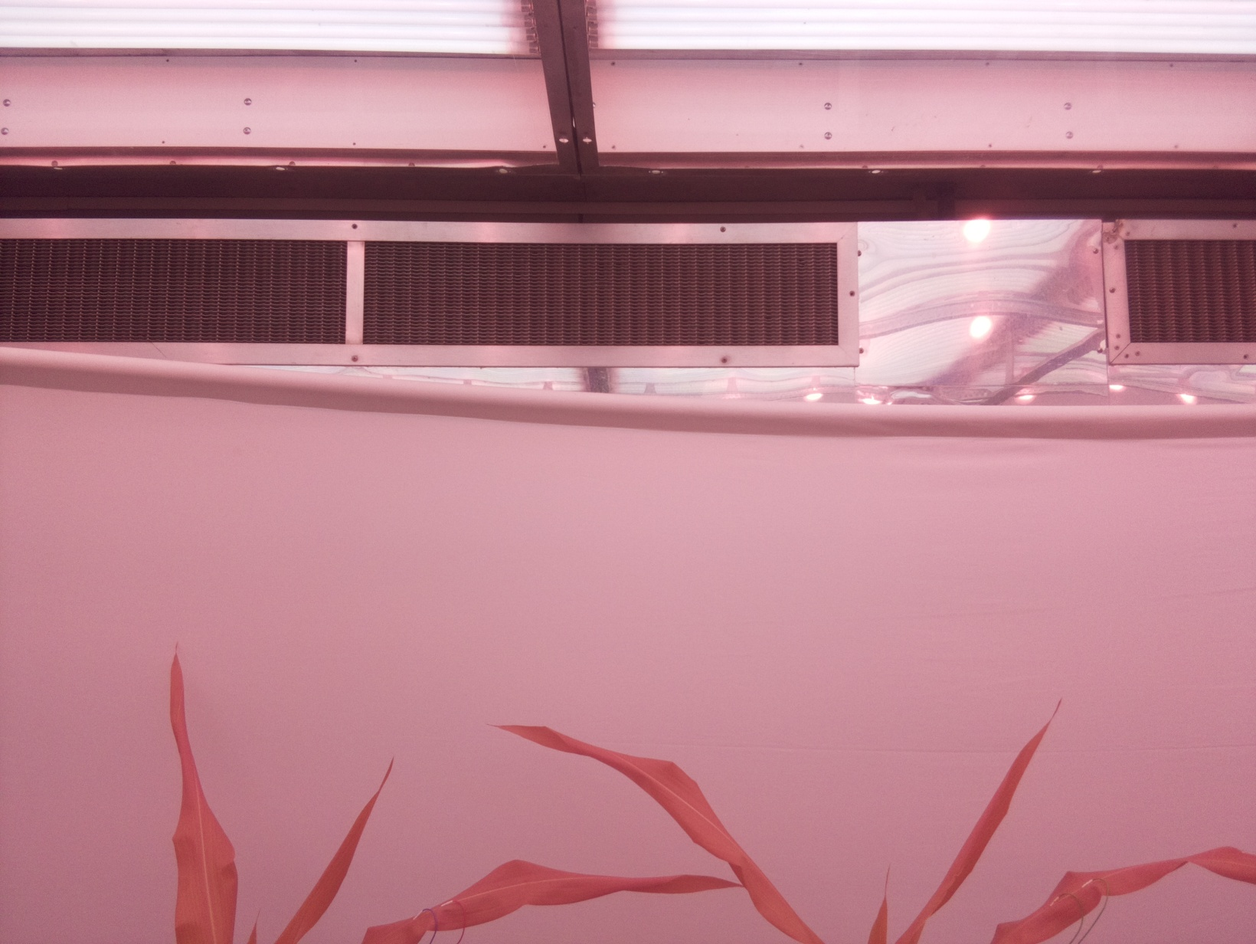maize: (488, 696, 1256, 944), (168, 643, 747, 944)
